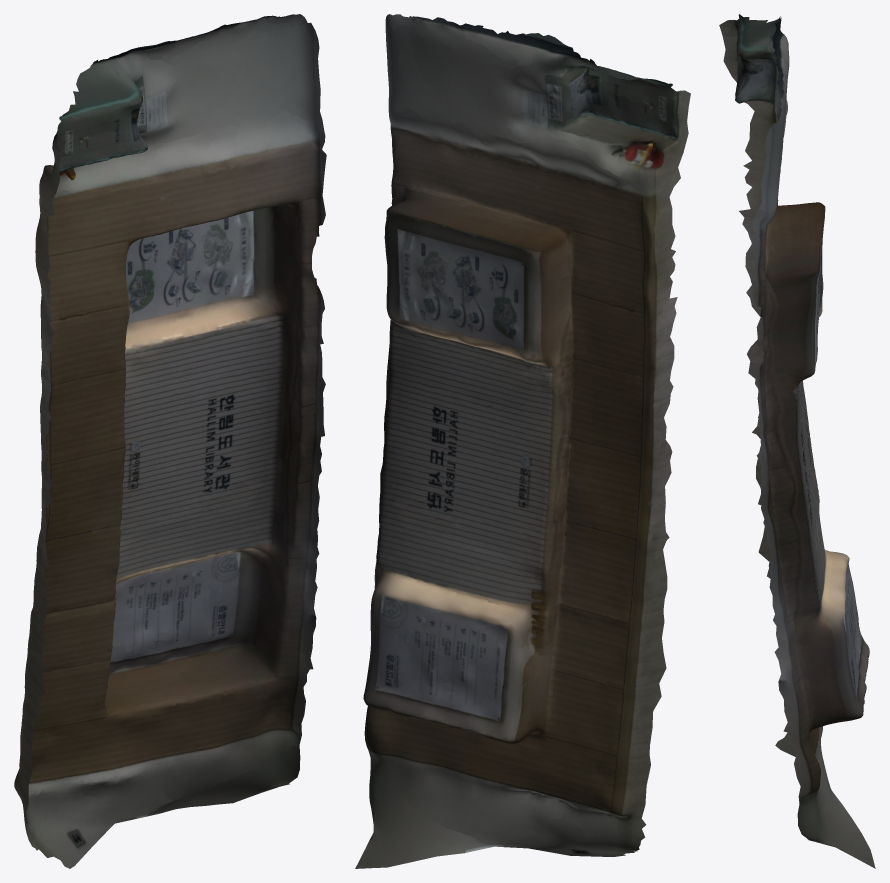
The model's file is 정문도서관.fbx.
3 renders of one model, left to right at view 1: azimuth 30°, elevation 25°; view 2: azimuth 150°, elevation 25°; view 3: azimuth 270°, elevation 25°, orthographic. The views are drawn at different scales.
Parts seen in each view (by area): view 1: Untitled; view 2: Untitled; view 3: Untitled.
Boxes of the visible parts, x1=… form: Untitled: x1=14, y1=14, x2=326, y2=868; Untitled: x1=355, y1=14, x2=690, y2=868; Untitled: x1=719, y1=14, x2=875, y2=868.
Bounding box in the file's own units: 425 × 1186 × 217.
